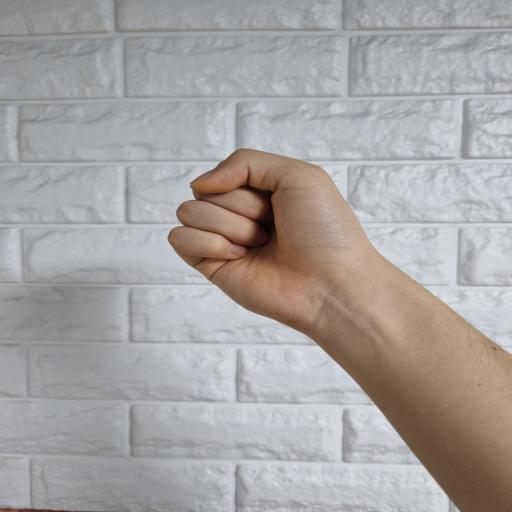Rock: (167, 149, 381, 333)
